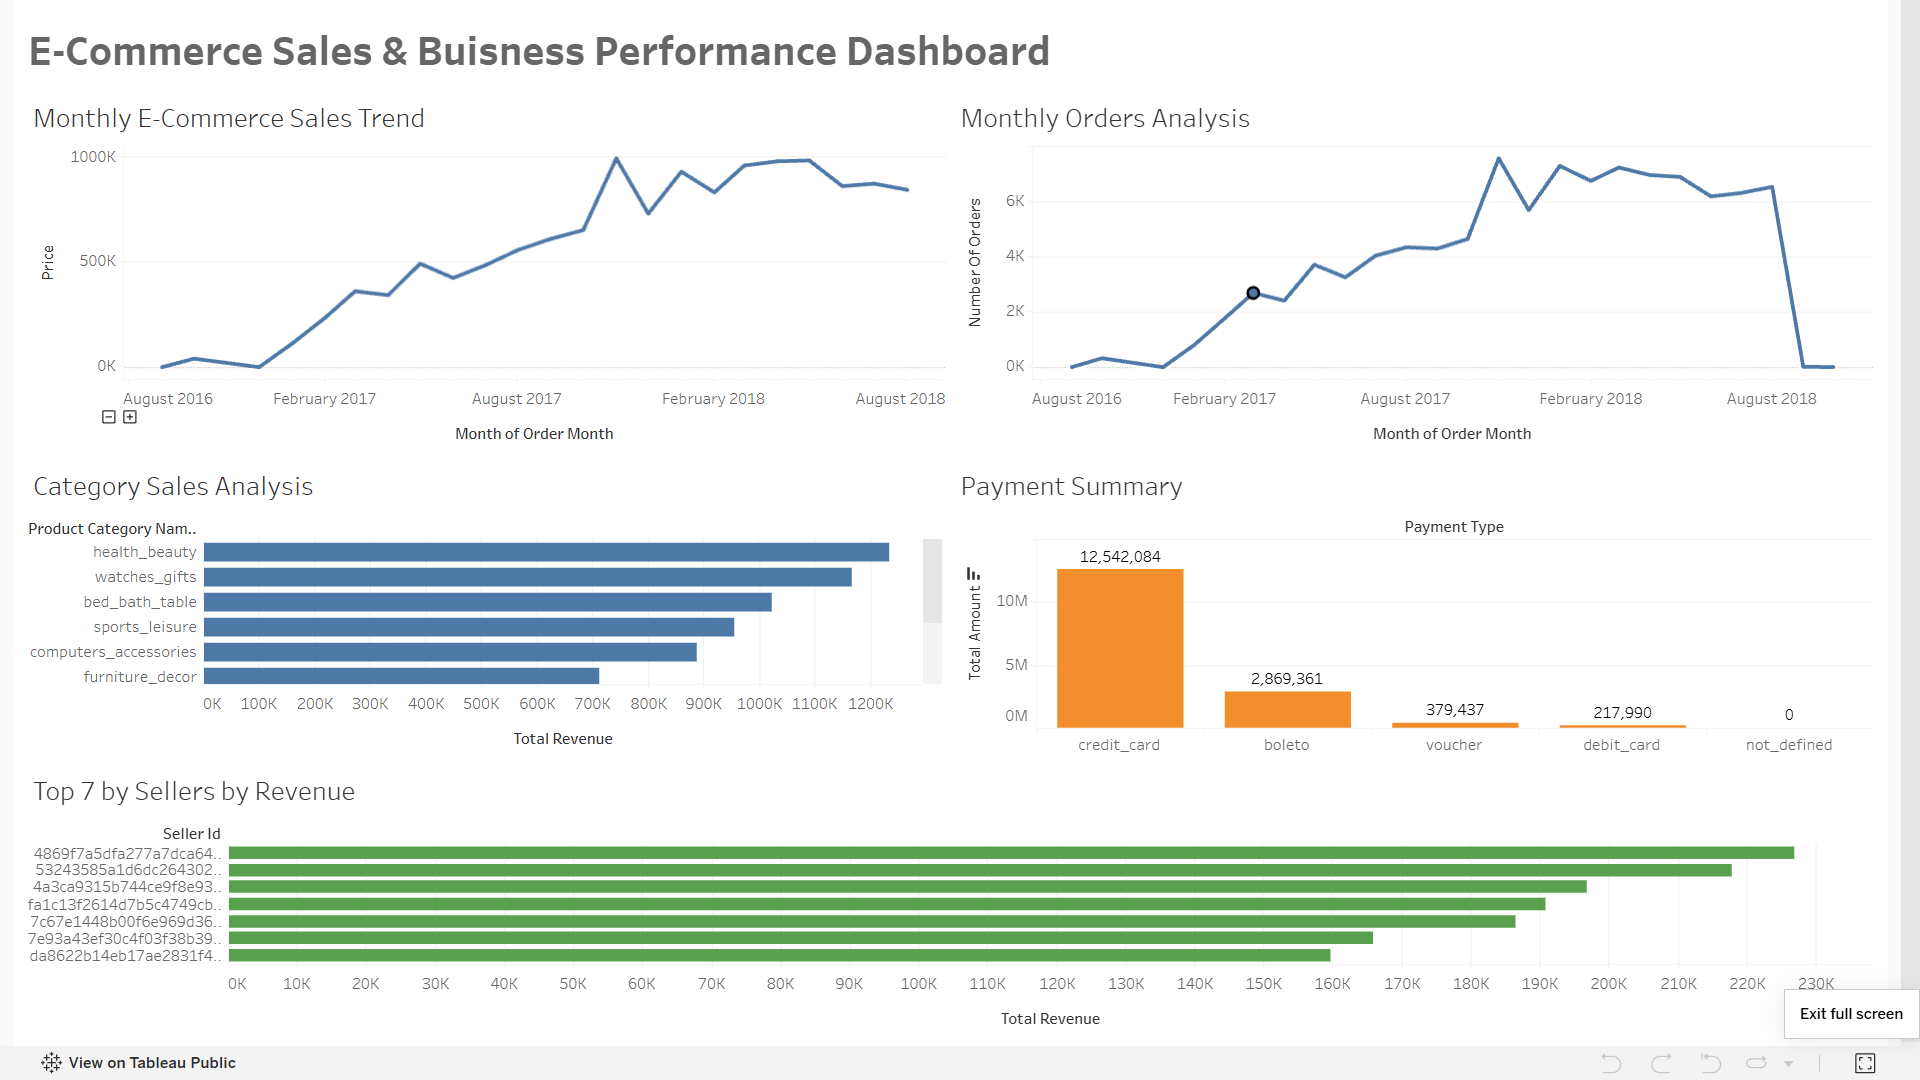

The dashboard page shown, as its layout file describes it:
{"tool":"tableau","page":{"name":"E-Commerce Sales & Buisness Performance Dashboard ","canvas":[1500,840],"ordinal":0},"visuals":[{"type":"text","box":[8,8,1484,62]},{"type":"worksheet","title":"Monthly Revenue Trend","mark":"Automatic","rows":["price"],"cols":["order_month"],"box":[8,70,742,294]},{"type":"worksheet","title":"Monthly Orders Analysis","mark":"Automatic","rows":["number_of_orders"],"cols":["order_month"],"box":[750,70,742,294]},{"type":"worksheet","title":"Category Sales Analysis","mark":"Automatic","rows":["product_category_name_english"],"cols":["Total_Revenue"],"box":[8,364,742,244]},{"type":"worksheet","title":"Payment Summary","mark":"Bar","rows":["Total_Amount"],"cols":["payment_type"],"box":[750,364,742,244]},{"type":"worksheet","title":"Top 7 by Sellers by Revenue","mark":"Automatic","rows":["seller_id"],"cols":["Total_Revenue"],"box":[8,608,1484,224]}]}

Visuals, with their boxes on the page's 1500x840 design canvas (x1, y1, x2, y2). These are canvas units, not pixel positions in the 1920x1080 screenshot, which may show the page scaled, cropped or inside an application window:
text: bbox(8, 8, 1492, 70)
"Monthly Revenue Trend" worksheet: bbox(8, 70, 750, 364)
"Monthly Orders Analysis" worksheet: bbox(750, 70, 1492, 364)
"Category Sales Analysis" worksheet: bbox(8, 364, 750, 608)
"Payment Summary" worksheet (Bar marks): bbox(750, 364, 1492, 608)
"Top 7 by Sellers by Revenue" worksheet: bbox(8, 608, 1492, 832)
